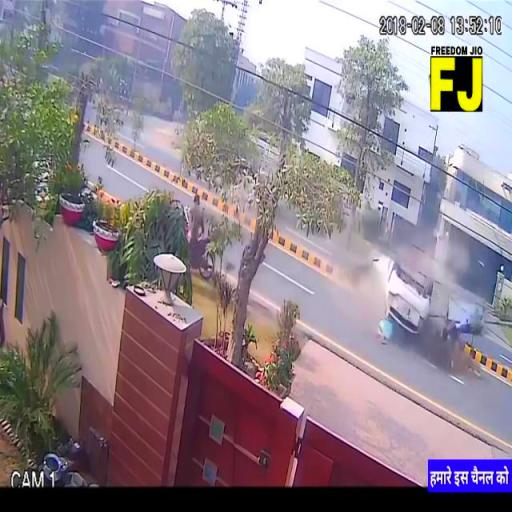小汽车撞物: (368, 251, 472, 352)
